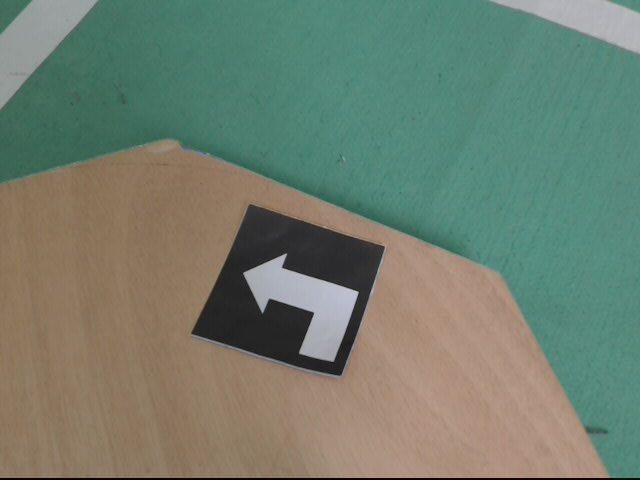left: (189, 202, 387, 381)
